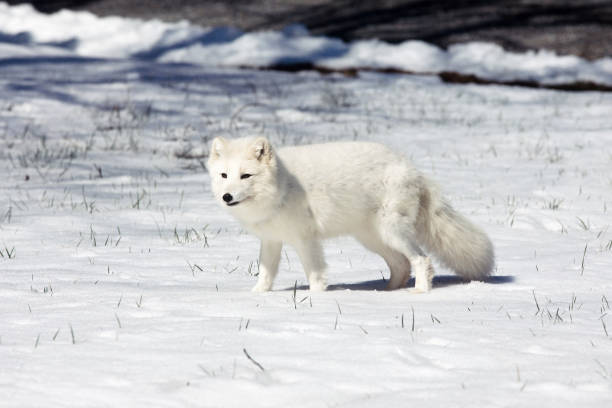arcticfox: (206, 148, 268, 223)
